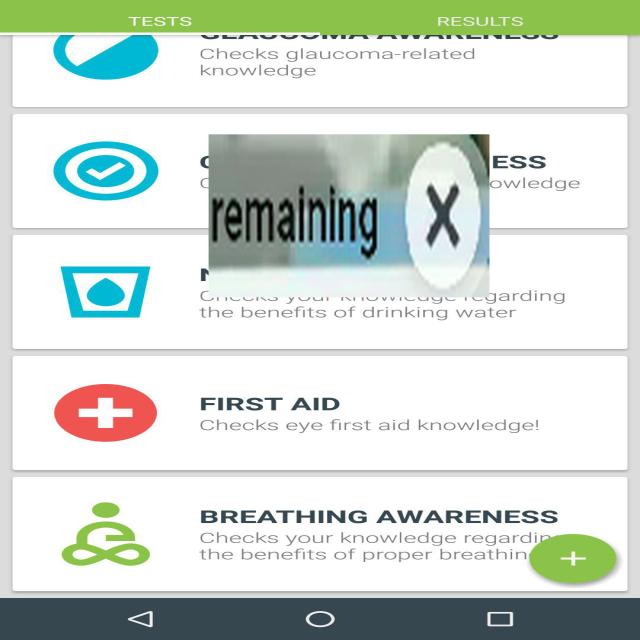misdirection: (208, 134, 490, 298)
